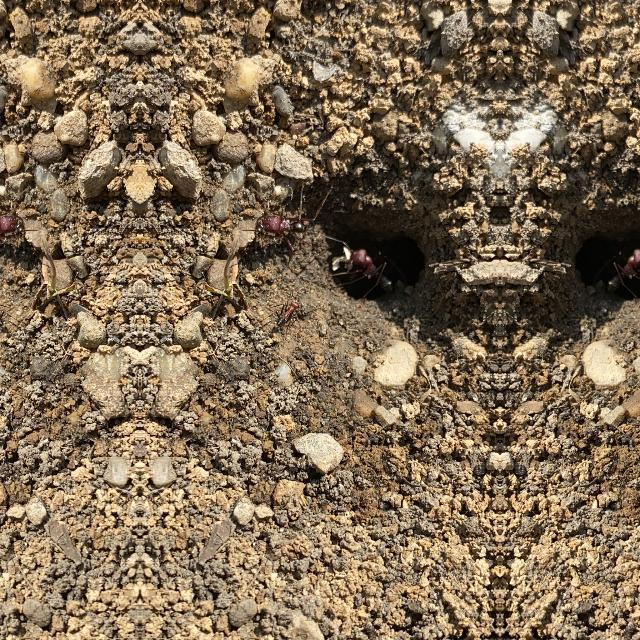Cataglyphis: (340, 233, 402, 305), (596, 233, 640, 305), (253, 198, 310, 252), (0, 196, 26, 252), (273, 290, 303, 336), (0, 288, 6, 335)
